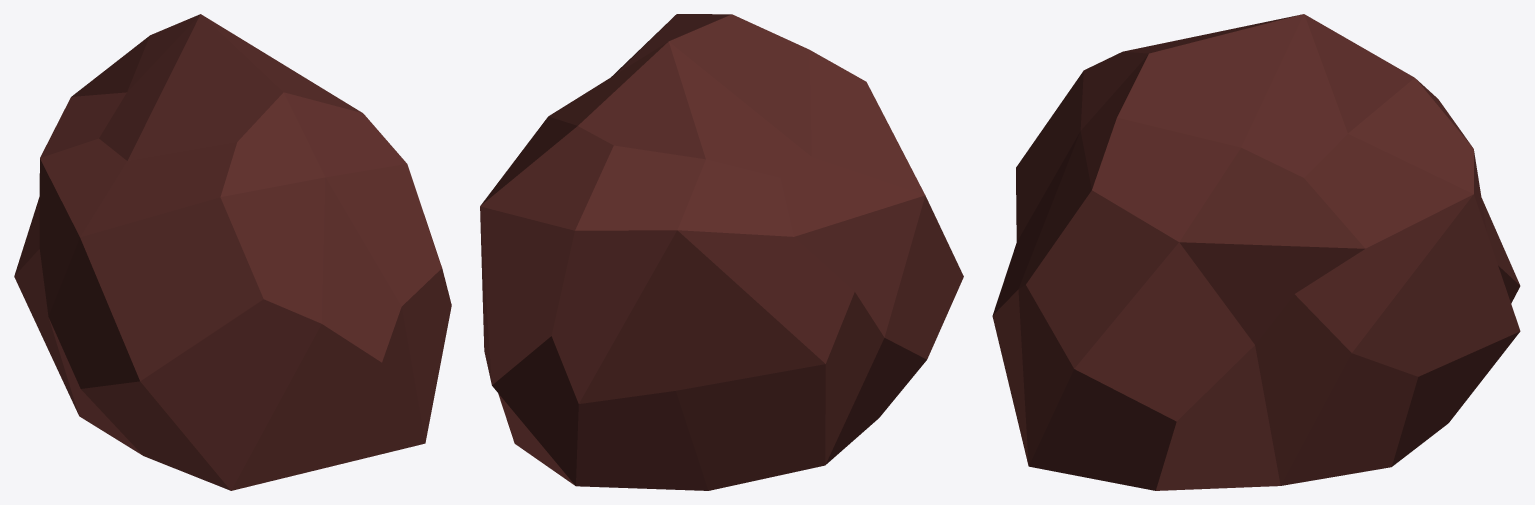
File: Rock_16_Red.fbx
3 views of the same model, side by side, from view 1: azimuth 30°, elevation 25°; view 2: azimuth 150°, elevation 25°; view 3: azimuth 270°, elevation 25° (orthographic). The views are drawn at different scales.
Parts seen in each view (by area): view 1: Rock_16_Red; view 2: Rock_16_Red; view 3: Rock_16_Red.
Part boxes in pixels (bbox=[...]): Rock_16_Red: bbox=[14, 14, 451, 490]; Rock_16_Red: bbox=[480, 14, 963, 490]; Rock_16_Red: bbox=[992, 14, 1520, 490].
Bounding box in the file's own units: 287 × 319 × 347.
